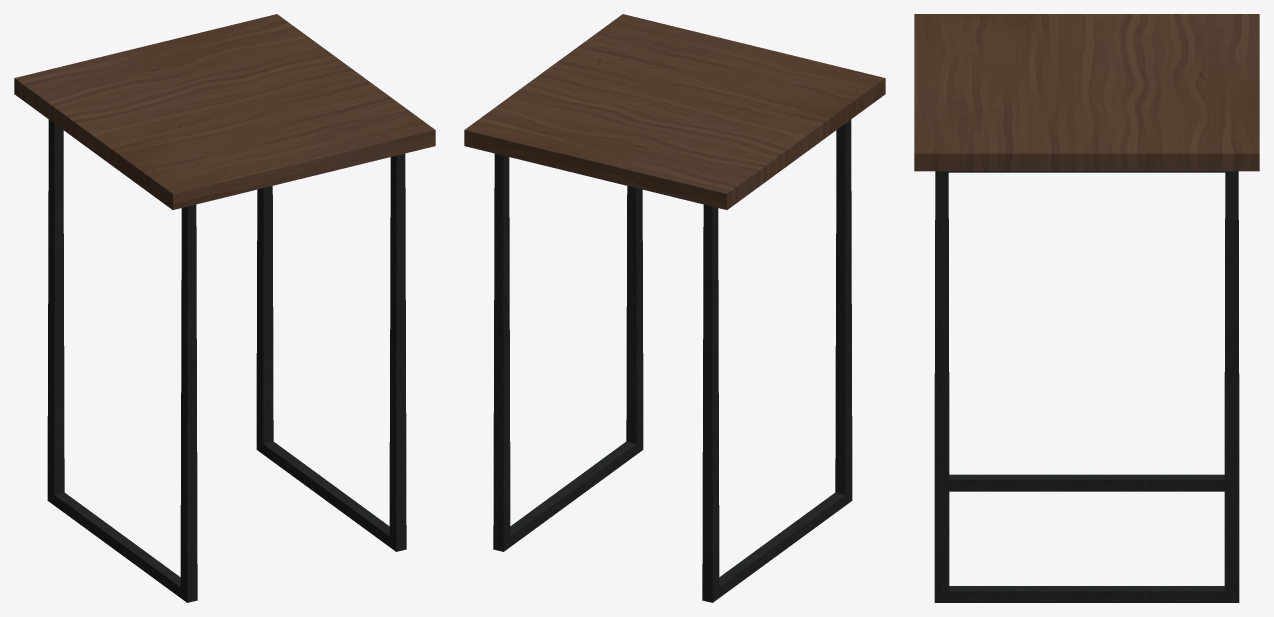
File: desk_2_2.glb
The picture shows the model from 3 angles, left to right: view 1: azimuth 30°, elevation 25°; view 2: azimuth 150°, elevation 25°; view 3: azimuth 270°, elevation 25°; orthographic projection. The views are drawn at different scales.
Visible parts, largest first — view 1: desk_4_2; view 2: desk_4_2; view 3: desk_4_2.
Part boxes in pixels (bbox=[...]): desk_4_2: bbox=[14, 14, 435, 602]; desk_4_2: bbox=[464, 14, 885, 602]; desk_4_2: bbox=[914, 14, 1259, 602].
Size of what is drawn, in the model's own units: 0.8224 by 1.26 by 0.8591.
2 materials, 2 textured.
